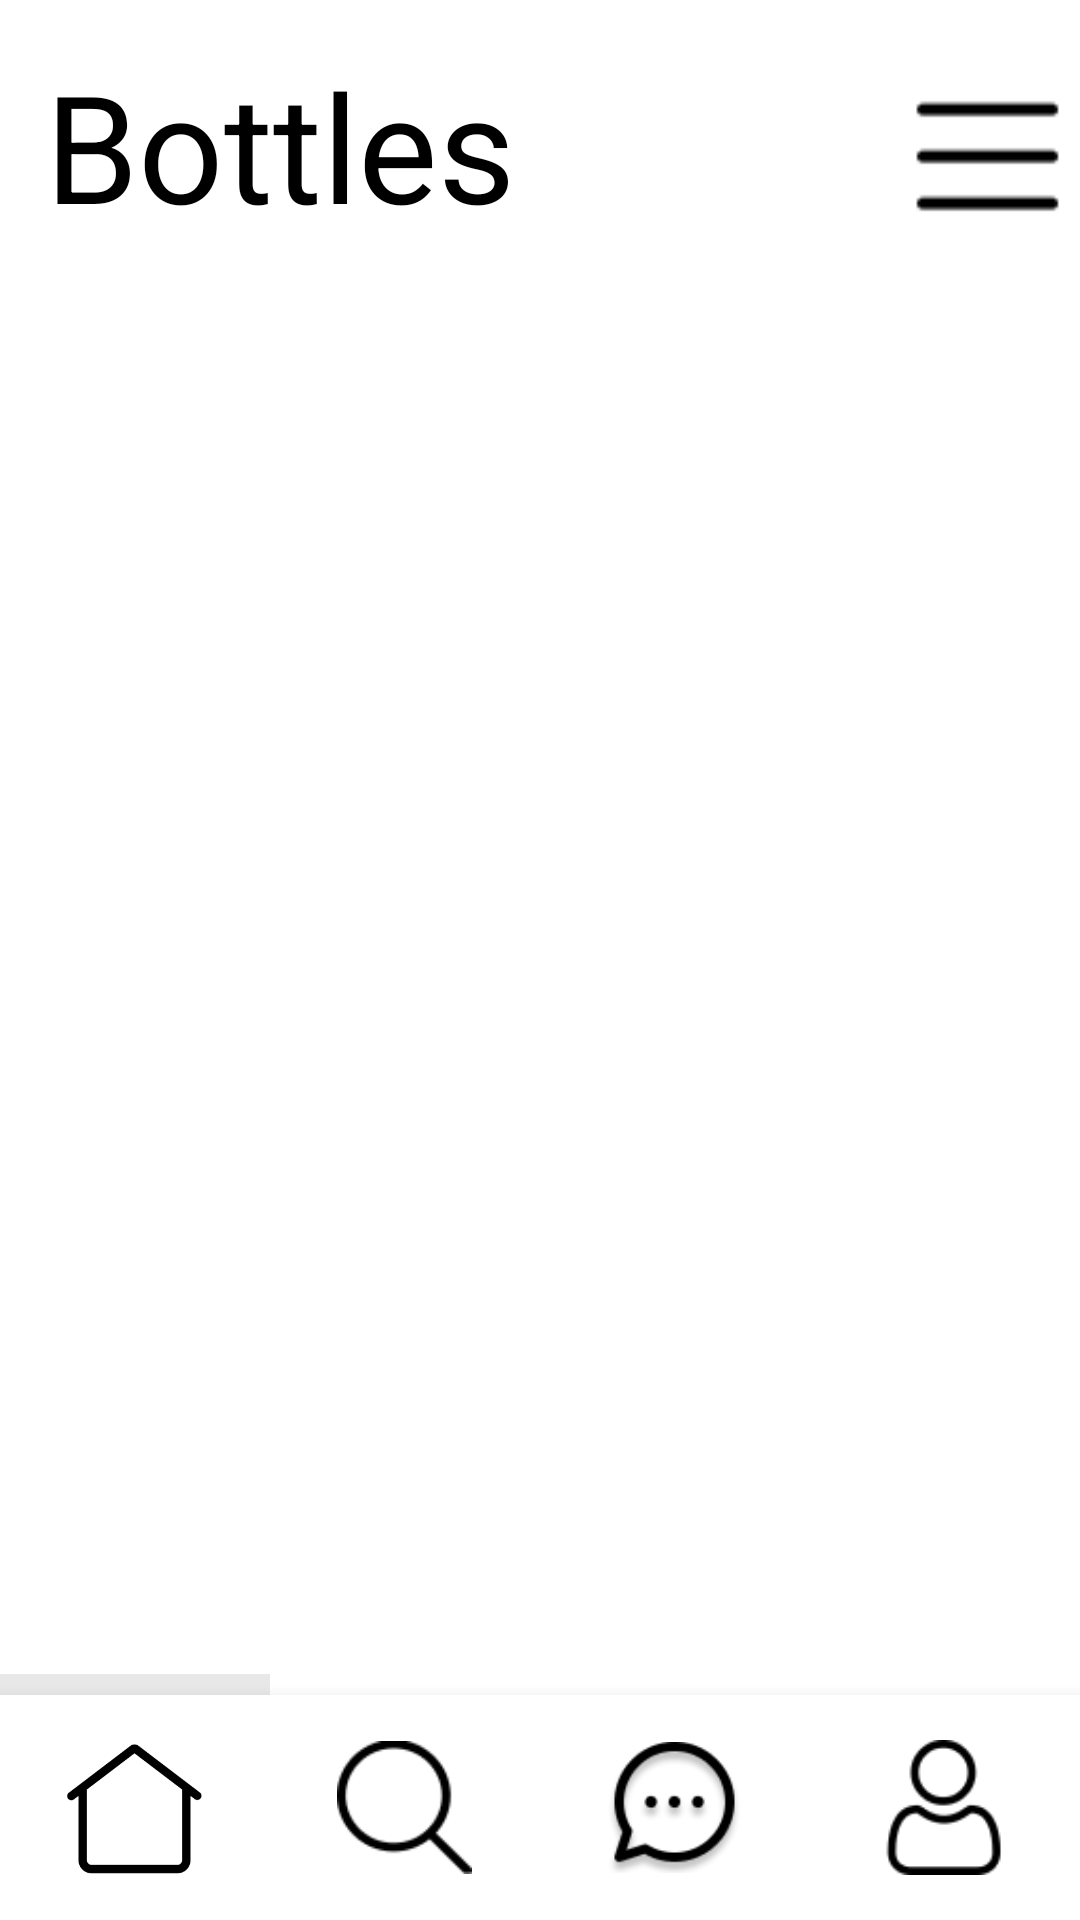

Point at icon controls on the screen. Image size 1080px×1920px, points as point (x, y).
menu: point (987, 156)
